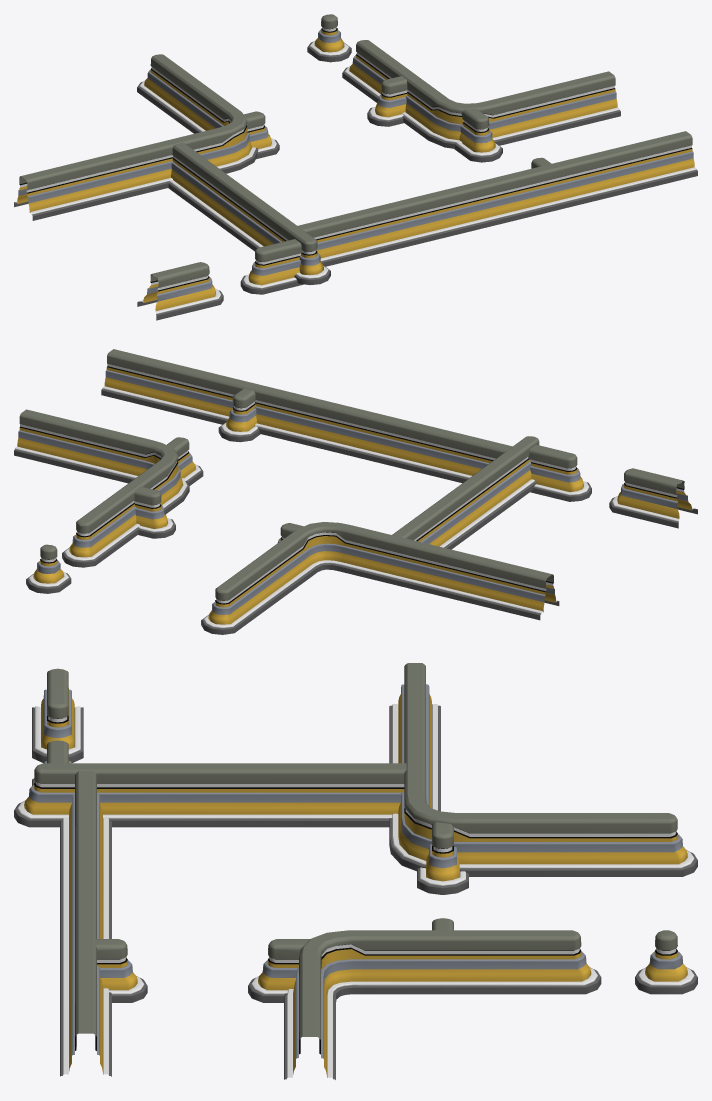
The model's file is Small walls.fbx.
The picture shows the model from 3 angles, top to bottom: view 1: azimuth 30°, elevation 25°; view 2: azimuth 150°, elevation 25°; view 3: azimuth 270°, elevation 25°; orthographic projection. The views are drawn at different scales.
Parts seen in each view (by area): view 1: Small_wall_L104, Small_wall_L103, Small_wall_L46, Small_wall_L48, Small_wallv1_75, Small_wallv1_77, Small_wallv1_73, Small_wallv1_71, Small_wallv1_76, Small_wallv1_78; view 2: Small_wall_L104, Small_wall_L103, Small_wall_L46, Small_wall_L48, Small_wallv1_75, Small_wallv1_77, Small_wallv1_71, Small_wallv1_72, Small_wallv1_76, Small_wallv1_73; view 3: Small_wall_L103, Small_wall_L48, Small_wall_L46, Small_wall_L104, Small_wallv1_75, Small_wallv1_76, Small_wallv1_78, Small_wallv1_73, Small_wallv1_72.
Part boxes in pixels (x1,y1,x2,y2): Small_wall_L104: [298, 131, 697, 266]; Small_wall_L103: [14, 54, 258, 220]; Small_wall_L46: [342, 40, 620, 148]; Small_wall_L48: [168, 142, 330, 284]; Small_wallv1_75: [137, 262, 223, 320]; Small_wallv1_77: [240, 239, 303, 294]; Small_wallv1_73: [454, 108, 502, 162]; Small_wallv1_71: [367, 76, 407, 126]; Small_wallv1_76: [307, 14, 351, 62]; Small_wallv1_78: [243, 111, 279, 159]; Small_wall_L104: [101, 349, 512, 483]; Small_wall_L103: [201, 522, 559, 634]; Small_wall_L46: [14, 409, 189, 567]; Small_wall_L48: [392, 436, 539, 549]; Small_wallv1_75: [609, 468, 697, 528]; Small_wallv1_77: [528, 444, 591, 501]; Small_wallv1_71: [134, 486, 175, 538]; Small_wallv1_72: [218, 388, 260, 442]; Small_wallv1_76: [26, 544, 71, 593]; Small_wallv1_73: [167, 437, 203, 485]; Small_wall_L103: [389, 663, 697, 876]; Small_wall_L48: [14, 763, 406, 827]; Small_wall_L46: [284, 930, 601, 1079]; Small_wall_L104: [60, 771, 111, 1076]; Small_wallv1_75: [32, 668, 83, 763]; Small_wallv1_76: [635, 930, 697, 994]; Small_wallv1_78: [417, 822, 468, 894]; Small_wallv1_73: [248, 939, 310, 1002]; Small_wallv1_72: [95, 939, 147, 1002].
Size of the model in its own units: 590 by 40.85 by 454.
